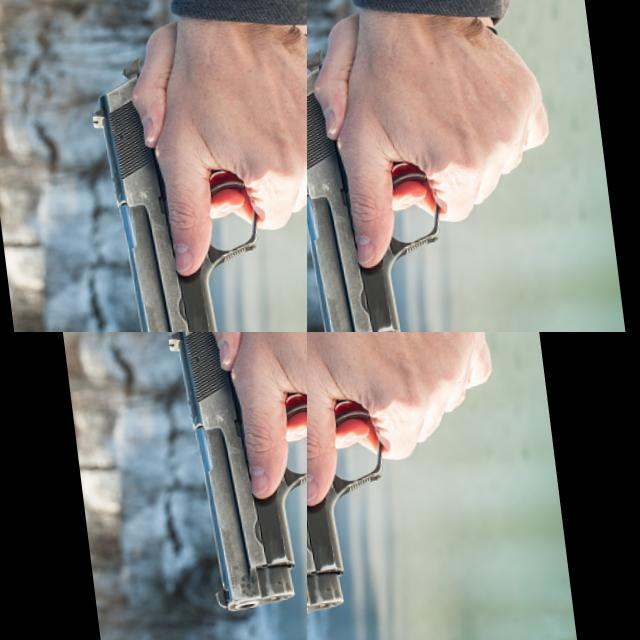handgun: (307, 332, 406, 626), (173, 332, 266, 376)
